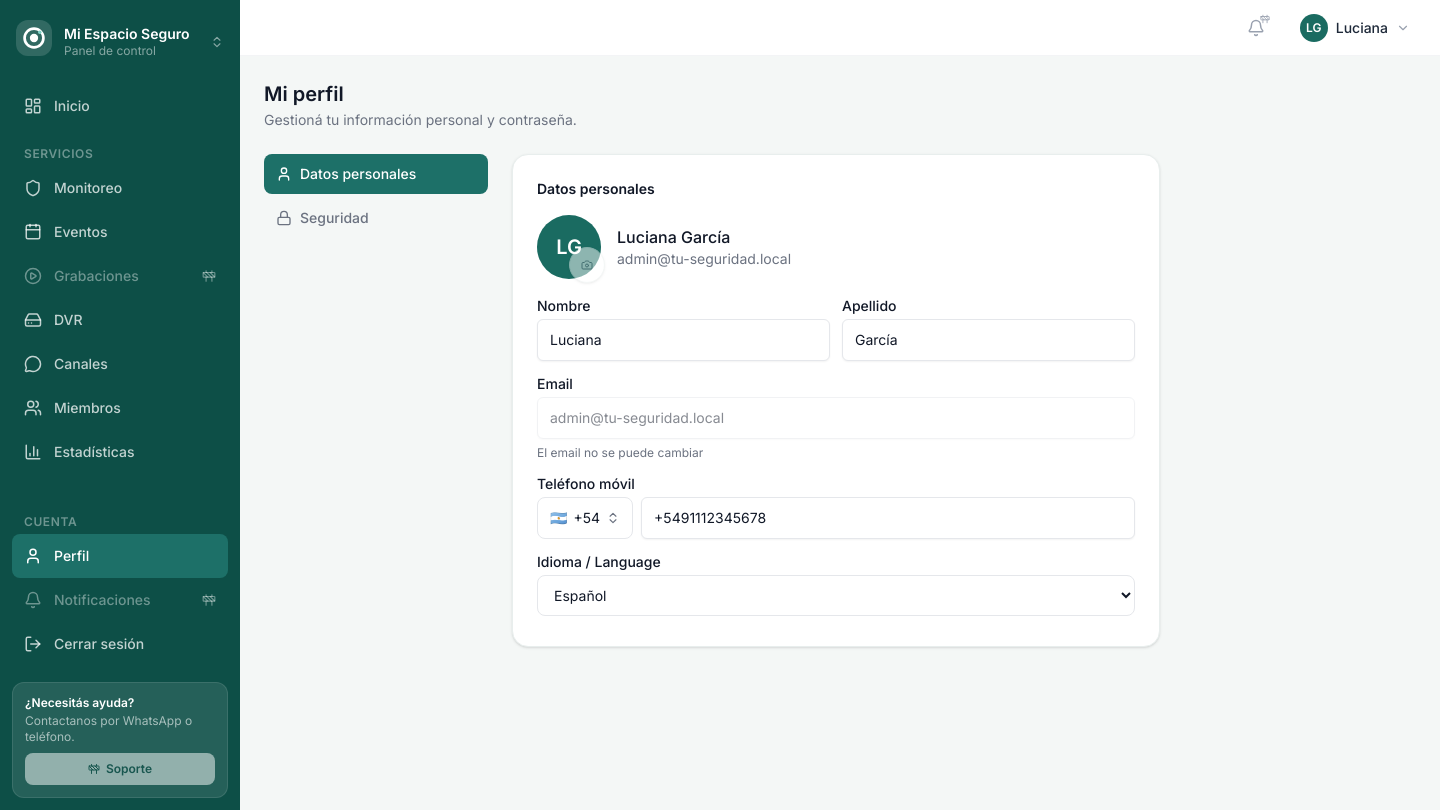
Test: locale › reverts the language when saving fails
This screenshot has width=1440, height=810.
Select "English" in the dropdown labelled "Idioma / Language": point(836, 596) [537,575,1135,616]
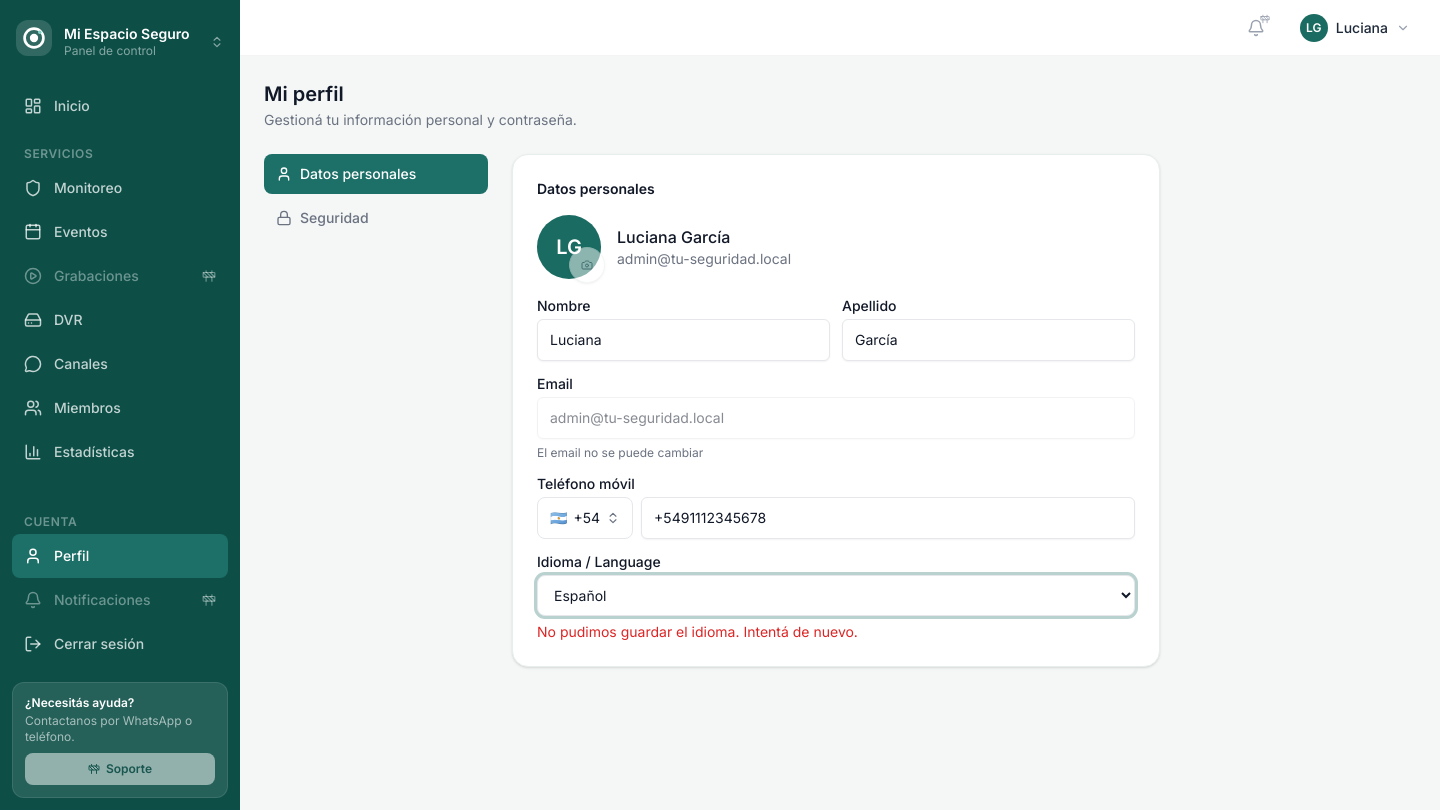
Expected: the message shows "No pudimos guardar el idioma", [537,623,858,640]
